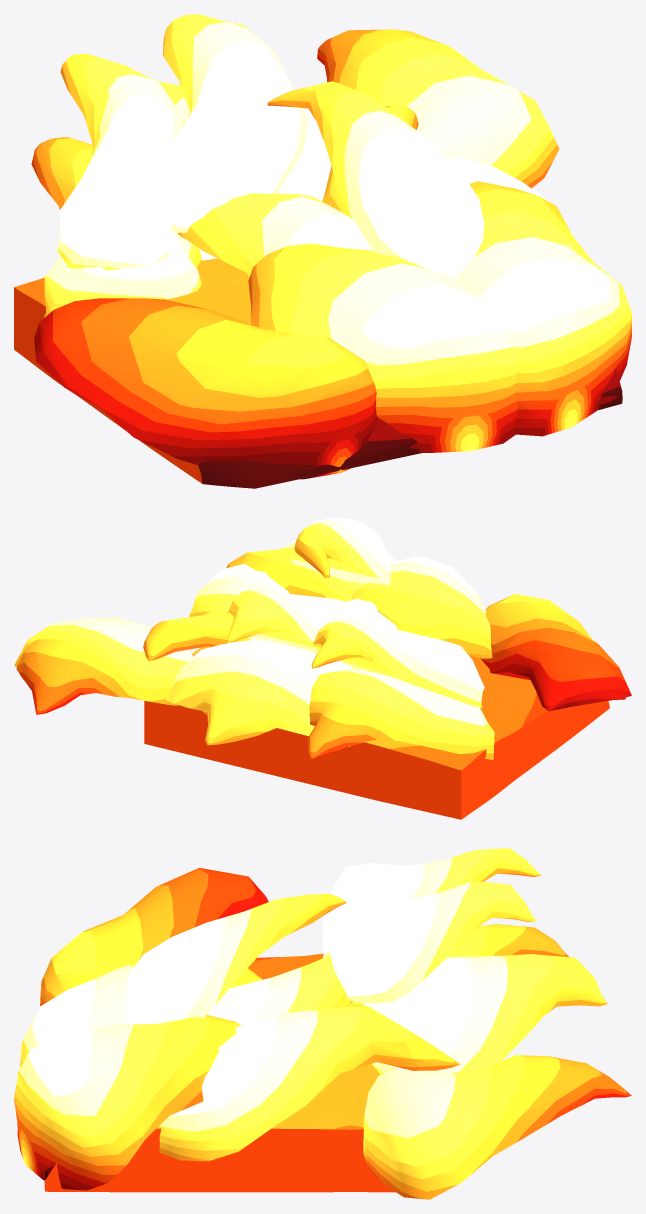
File: fire_head_c.glb
The picture shows the model from 3 angles, top to bottom: view 1: azimuth 30°, elevation 25°; view 2: azimuth 150°, elevation 25°; view 3: azimuth 270°, elevation 25°; orthographic projection. The views are drawn at different scales.
Visible parts, largest first — view 1: fire_head_c; view 2: fire_head_c; view 3: fire_head_c.
Part boxes in pixels (x1,y1,x2,y2): fire_head_c: (14,14,631,488); fire_head_c: (14,517,631,819); fire_head_c: (14,848,631,1199).
Size of the model in its own units: 38.31 by 14.42 by 35.12.
